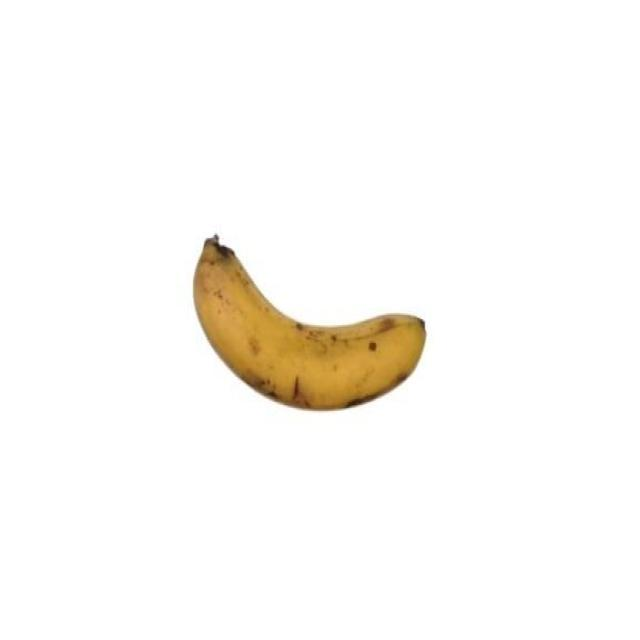banana: (187, 228, 431, 418)
